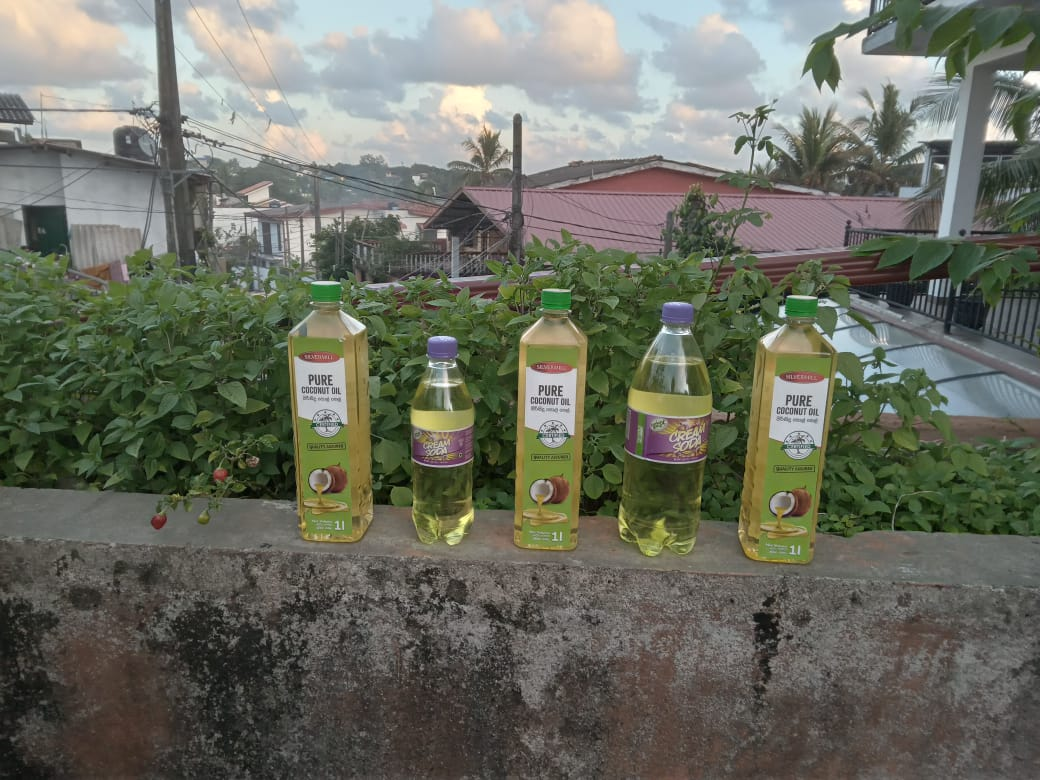M: (618, 303, 712, 561)
S: (406, 335, 477, 547)
